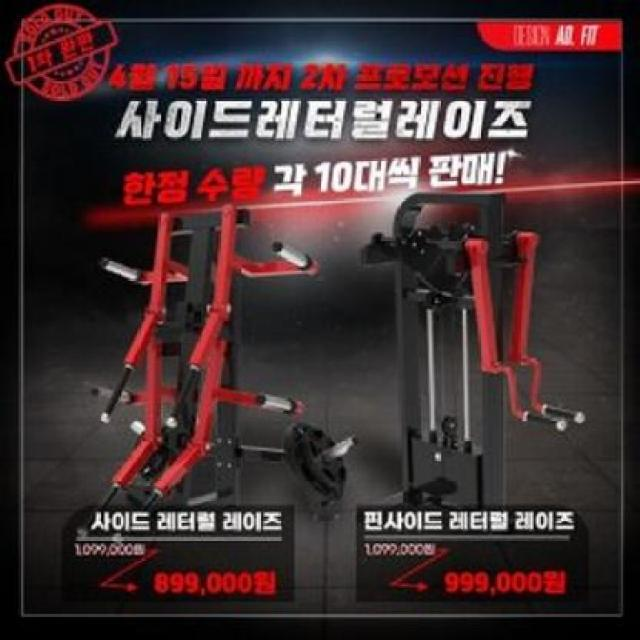lateral raises machine: (366, 194, 589, 508), (89, 329, 363, 508)
